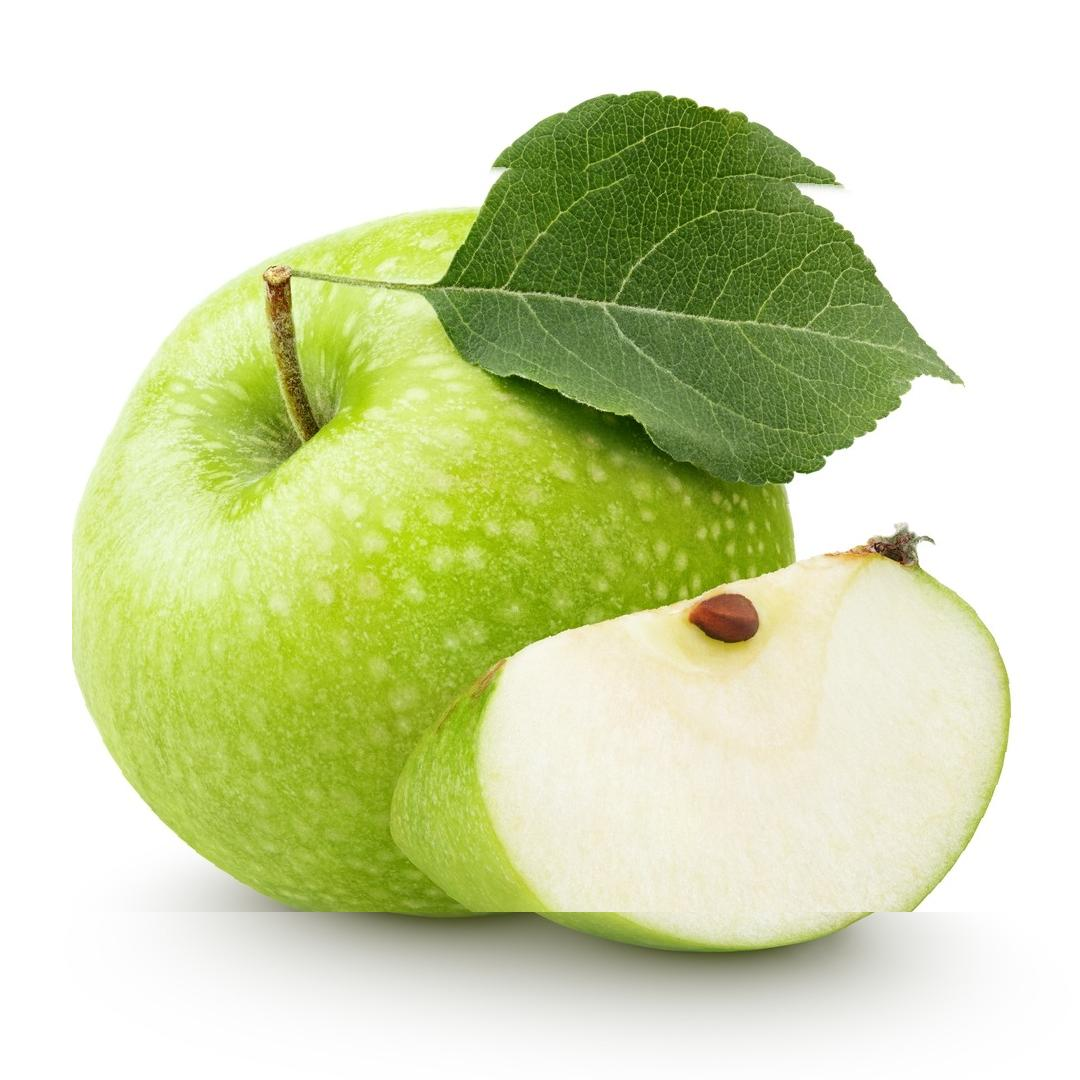Apple Fresh: (72, 145, 1080, 912)
